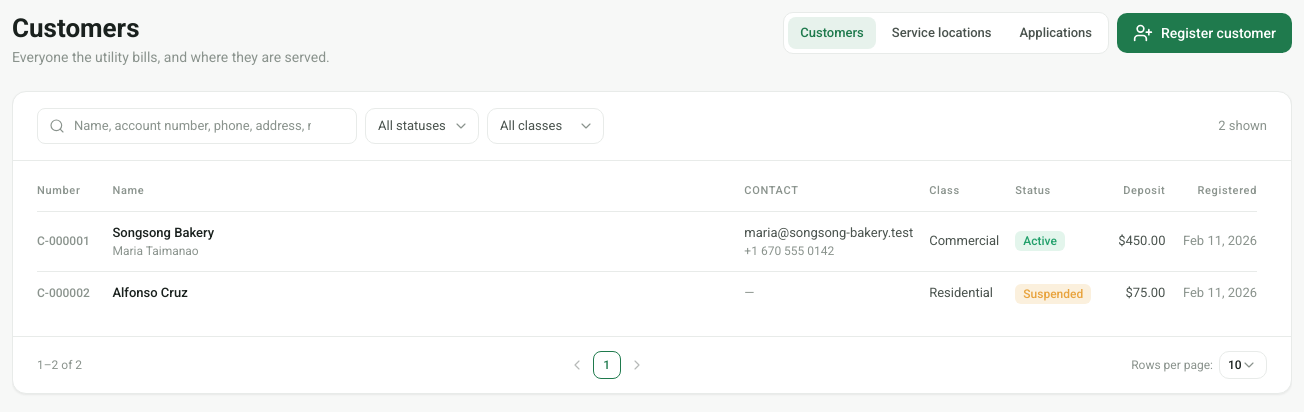
Scenario: CustomersPage › the search field › finds a customer by their contact number
Expected: the text "Songsong Bakery" is shown, top-left (112, 225), bottom-right (214, 240)
Type "670-285-1234" into the search field named "Search customers" at (197, 126), box top-left (37, 108), bottom-right (357, 144)
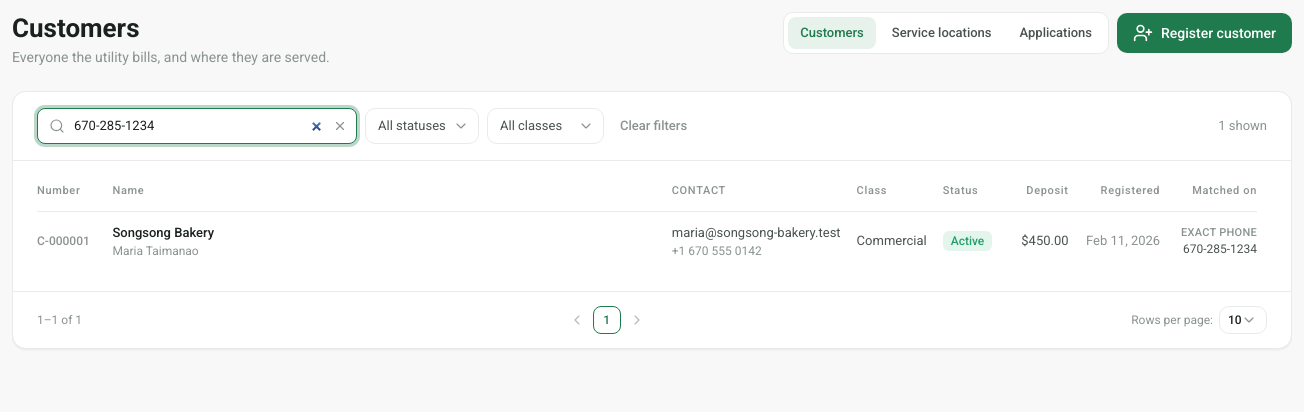
Expected: the text "Exact phone" is shown, top-left (1176, 226), bottom-right (1257, 241)
Expected: the text "670-285-1234" is shown, top-left (1176, 241), bottom-right (1257, 257)
